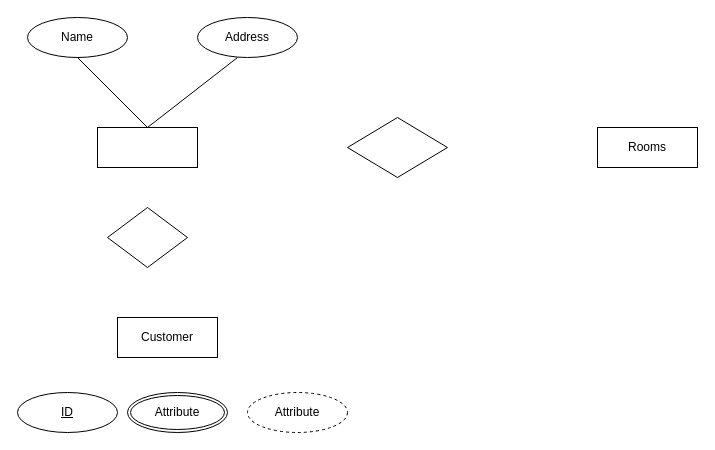
Image size: 715x450. Some labels were removed from this diagram. The shapes that lost their labels are listed below. From the top down, each one's centre as x and y in pixels, then its label:
At point 147,147: "Hotel".
At point 397,147: "has".
At point 147,237: "reserve".
